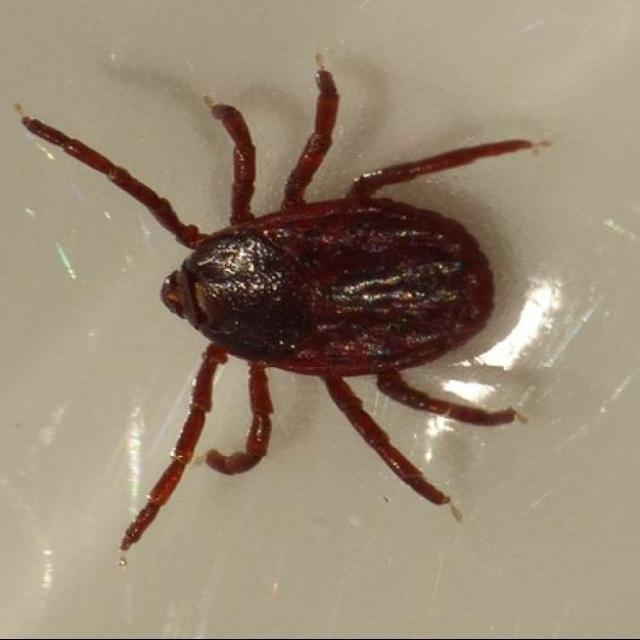Rhipicephalus Sanguineus-F: (24, 66, 541, 553)
